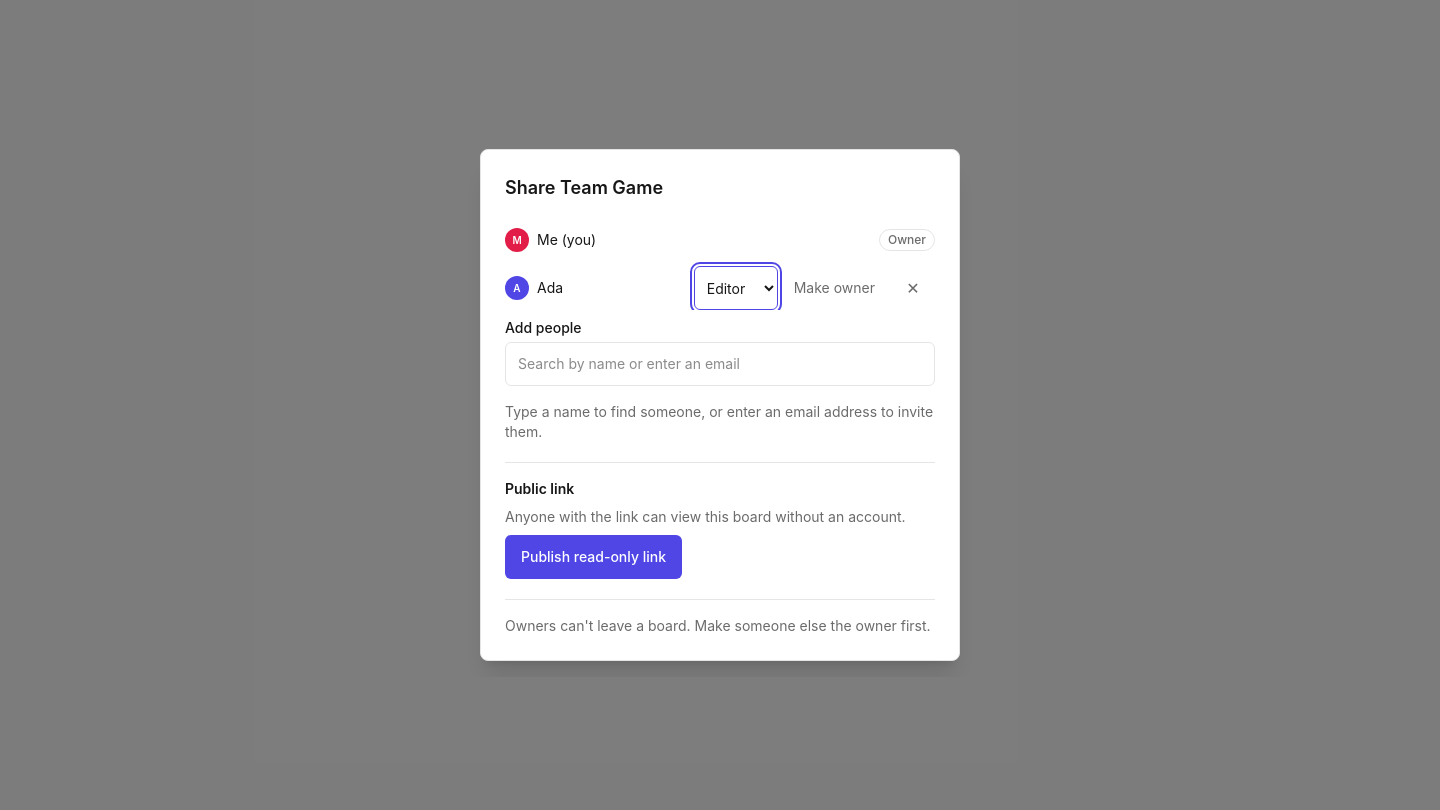
ProjectMembersModal › drops a pending transfer when that member is removed
Step 1. Click the button with aria-label "Make owner: Ada" → (834, 288), box [786,266,883,310]
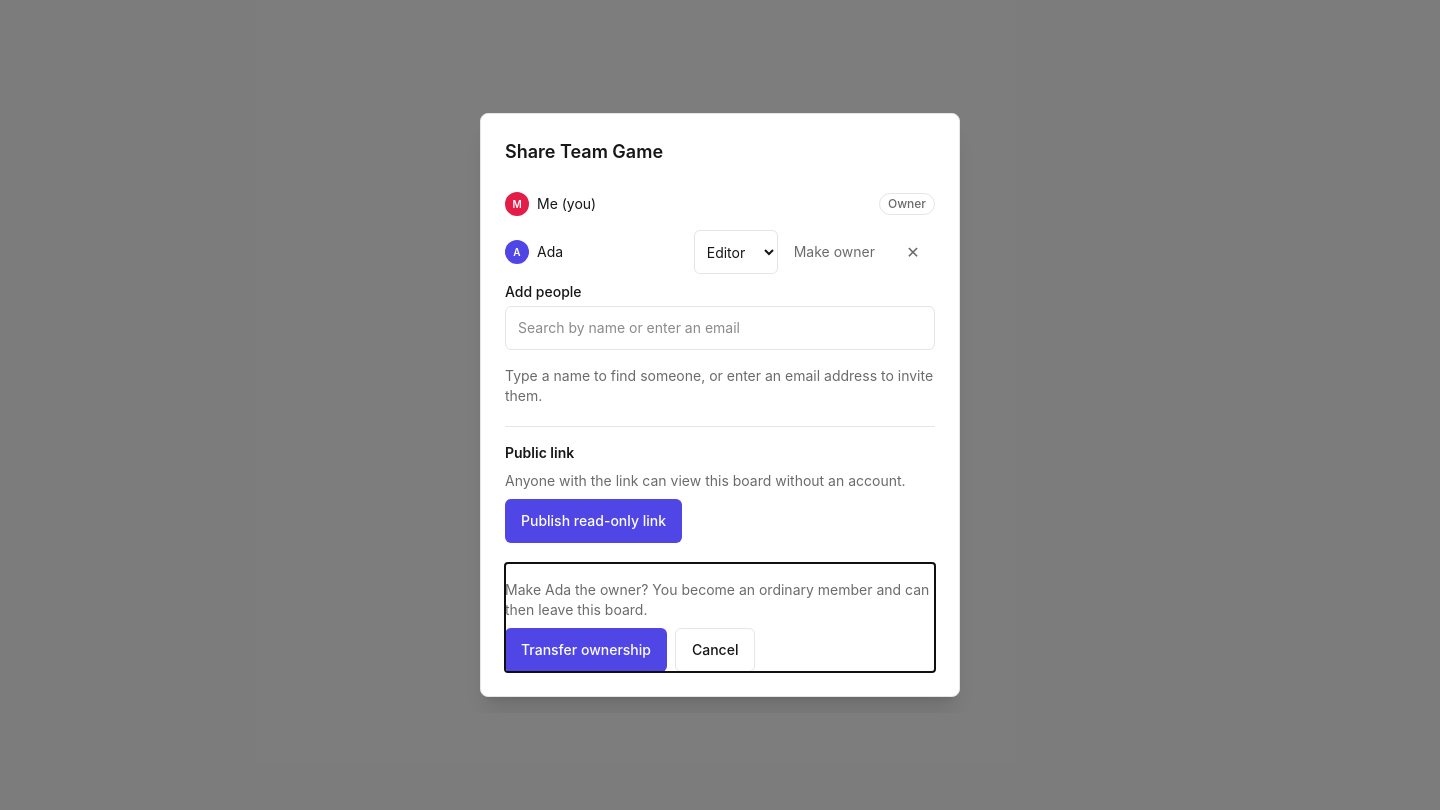
Step 2. Click the button named "Remove Ada" → (913, 252), box [891,230,935,274]
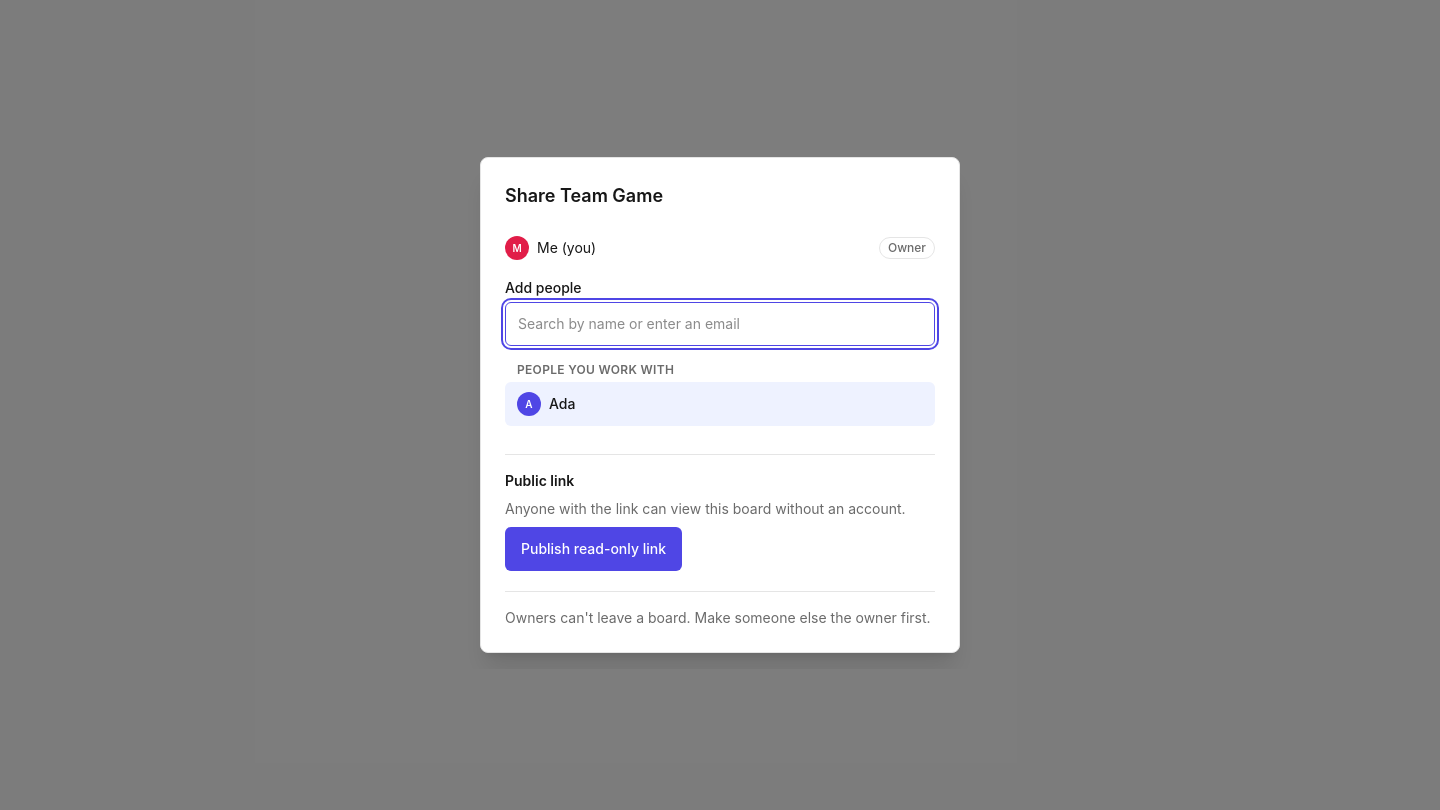
Result: the text "Make Ada the owner?" is gone
Result: the button "Transfer ownership" is gone
